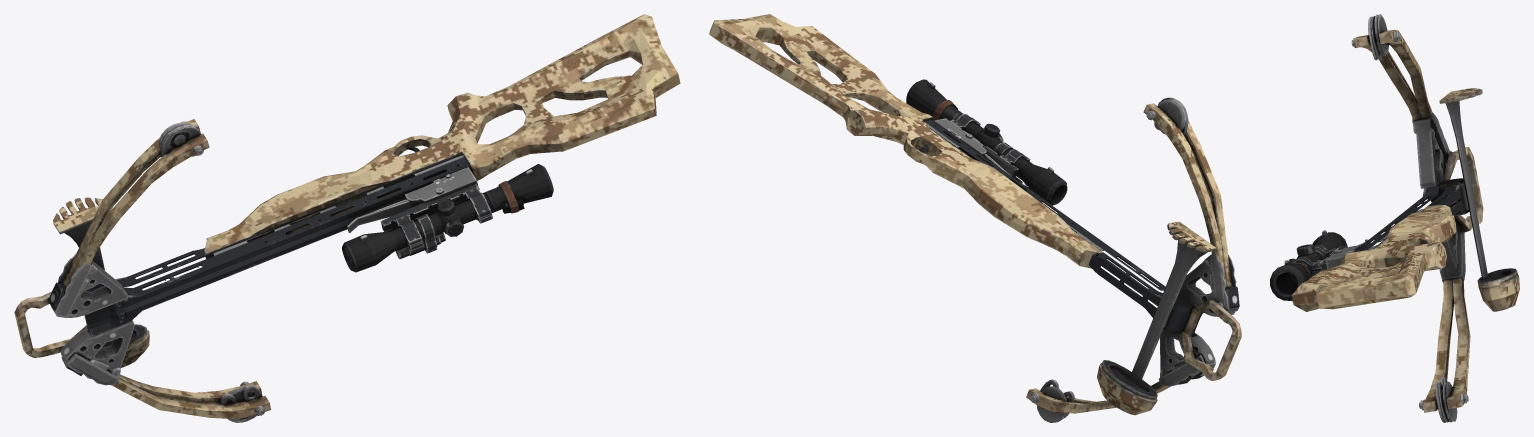
Rendered from ranger-crossbowfirebrand.glb.
3 views of the same model, side by side, from view 1: azimuth 30°, elevation 25°; view 2: azimuth 150°, elevation 25°; view 3: azimuth 270°, elevation 25° (orthographic). The views are drawn at different scales.
Parts seen in each view (by area): view 1: geometry_0; view 2: geometry_0; view 3: geometry_0.
Part boxes in pixels (x1,y1,x2,y2): geometry_0: (14, 14, 680, 422); geometry_0: (709, 14, 1241, 422); geometry_0: (1270, 14, 1519, 422).
Bounding box in the file's own units: 0.8823 × 0.482 × 0.3061.
1 material, 1 textured.
